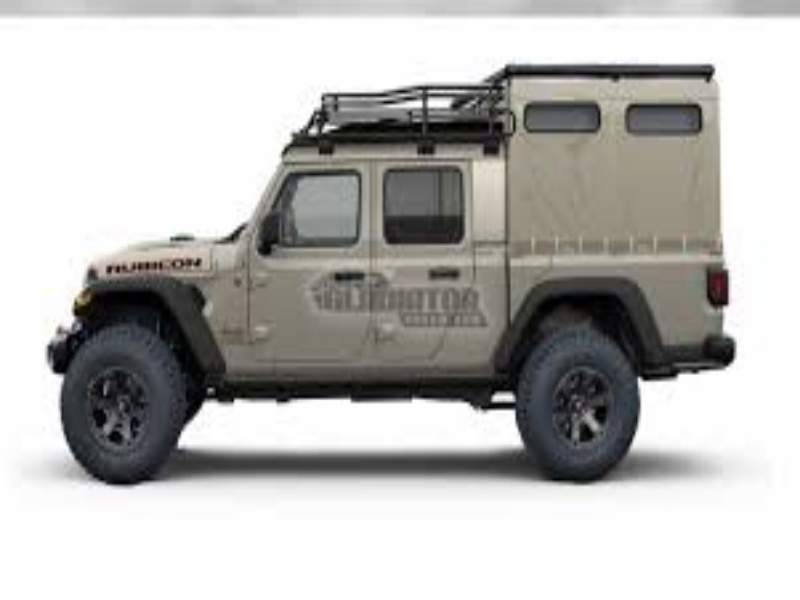jeep: (50, 61, 742, 490)
